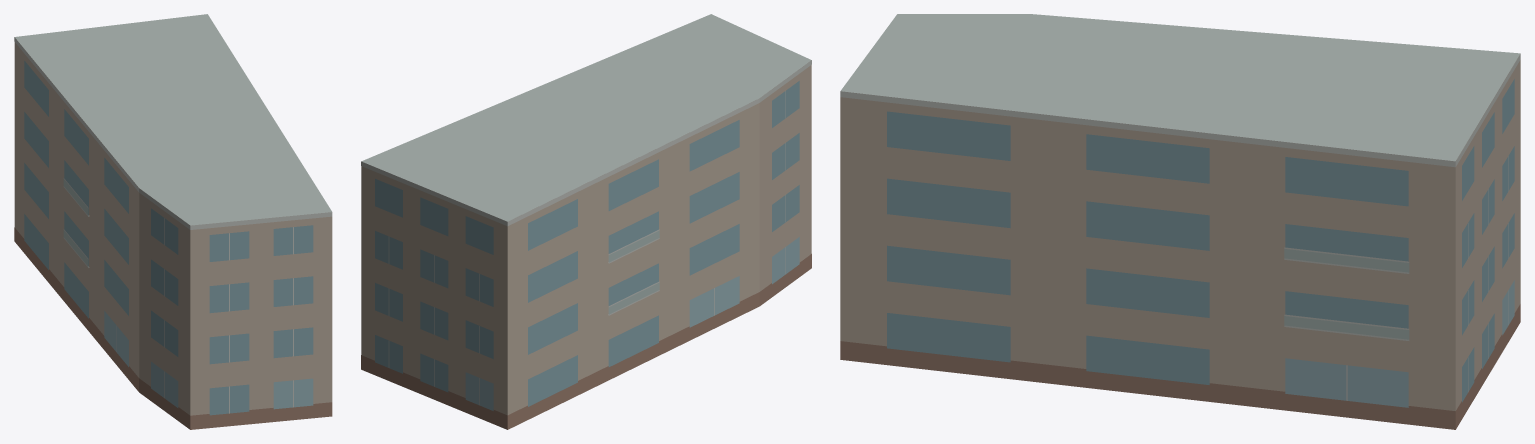
File: survey-upis-32814464.glb
3 views of the same model, side by side, from view 1: azimuth 30°, elevation 25°; view 2: azimuth 150°, elevation 25°; view 3: azimuth 270°, elevation 25° (orthographic). The views are drawn at different scales.
Visible parts, largest first — view 1: survey-upis-32814464.tmp; view 2: survey-upis-32814464.tmp; view 3: survey-upis-32814464.tmp.
Part boxes in pixels (x1,y1,x2,y2): survey-upis-32814464.tmp: (14,14,332,429); survey-upis-32814464.tmp: (361,14,811,429); survey-upis-32814464.tmp: (840,14,1520,429).
Size of the model in its own units: 13.04 by 11.07 by 25.43.
